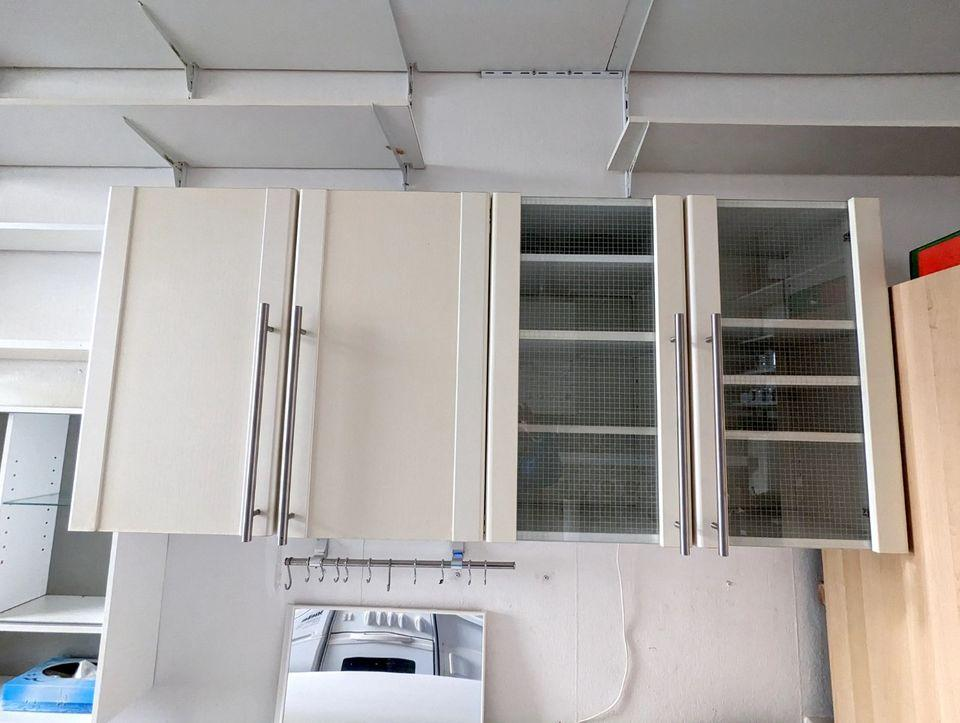cabinet_door: (0, 539, 47, 595)
handle: (251, 304, 291, 529), (653, 309, 687, 561), (697, 301, 729, 552), (289, 305, 325, 528), (707, 518, 728, 558)
